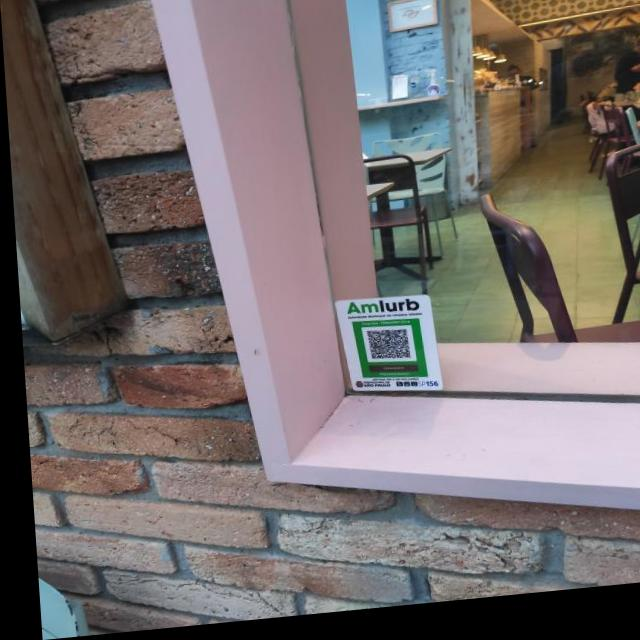qrcode: (363, 336, 407, 370)
